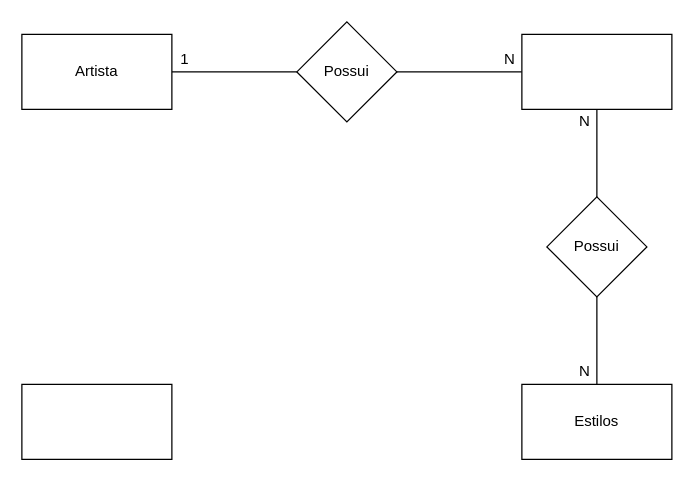
Some shapes in this 694 by 481 pixel diagram are drawn without their labels. The box of each missing label's shape, as (x1, y1, x2, y2) in pixels:
Albuns: (521, 33, 672, 109)
Usuarios: (21, 383, 172, 459)
